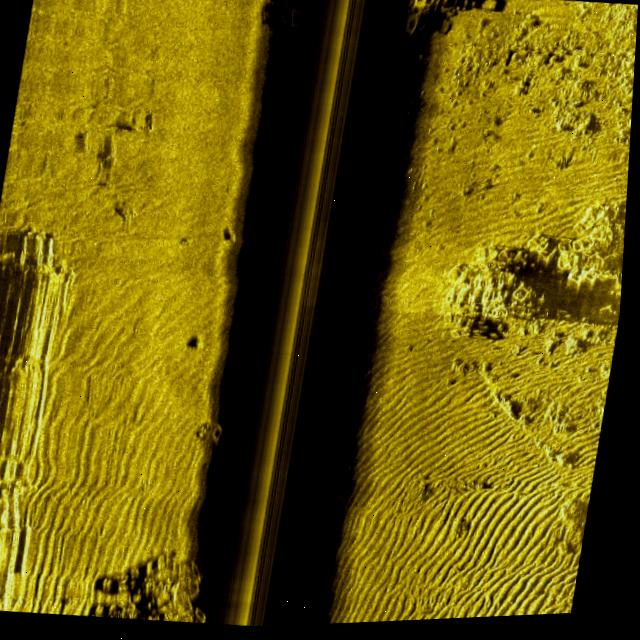artificial reef: (462, 187, 630, 356), (359, 0, 526, 90), (100, 523, 223, 628), (210, 405, 253, 468), (242, 0, 310, 38)
